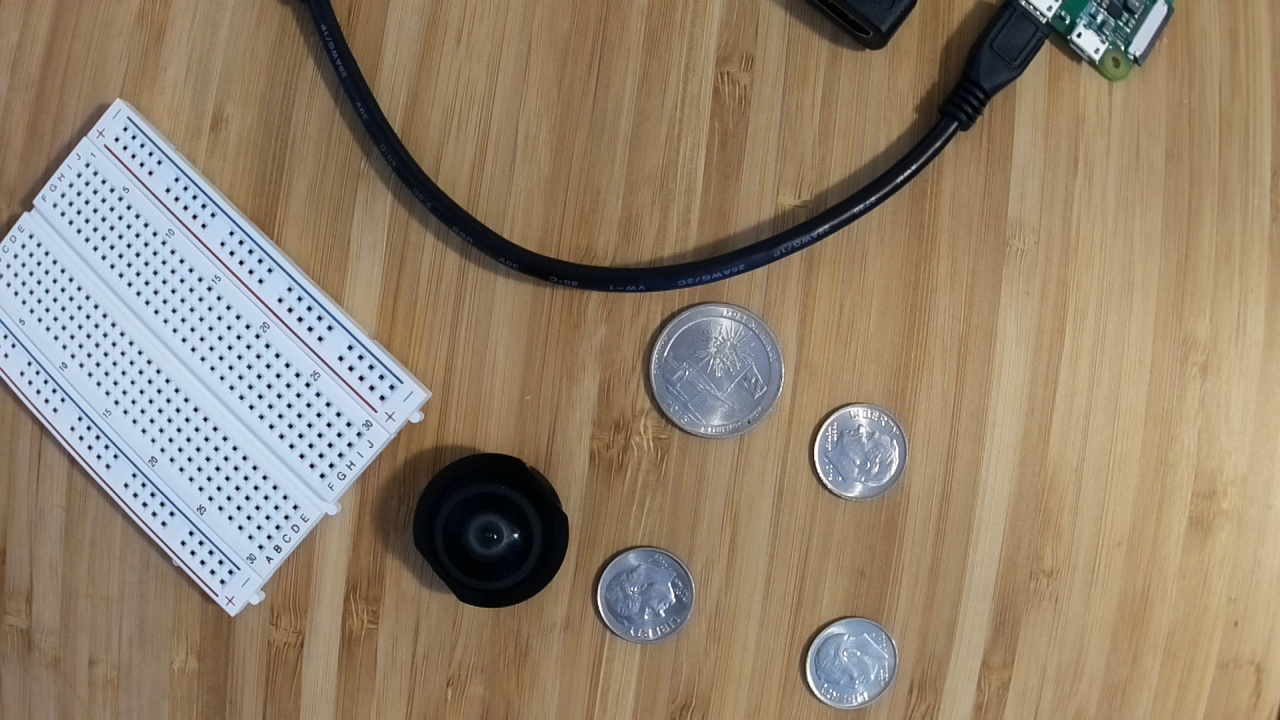dime: (593, 544, 695, 644), (809, 400, 909, 502), (802, 613, 898, 713)
quarter: (644, 302, 786, 440)
